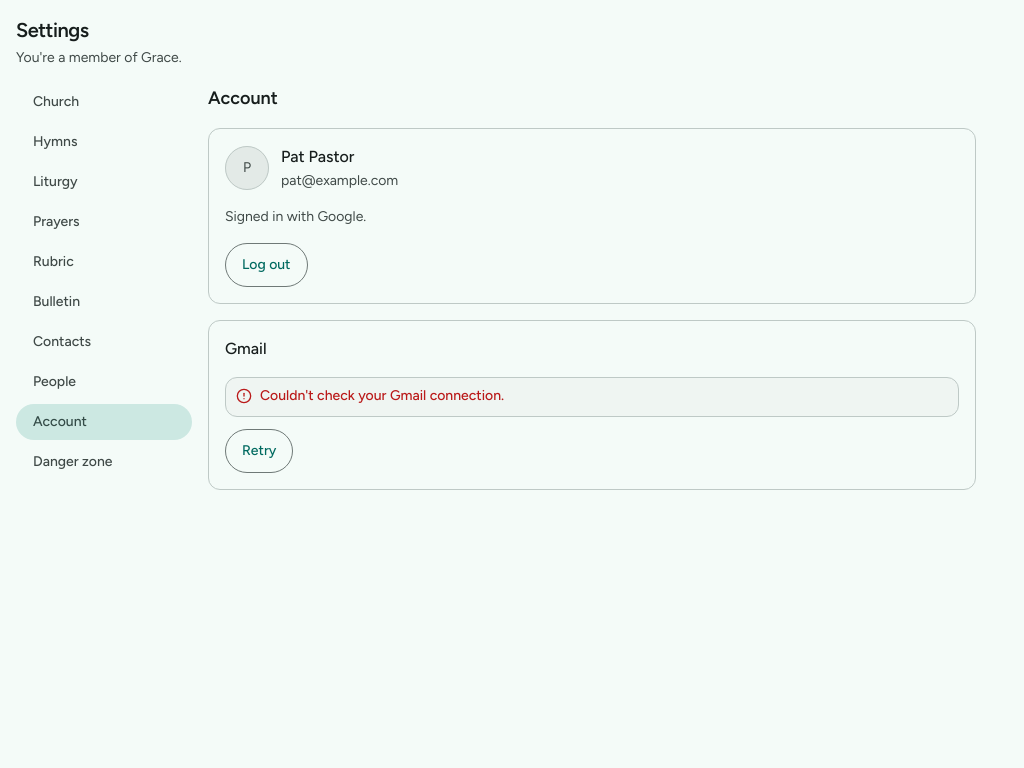
Test: Settings → Account (slice 5b-2) › shows a failed check with Retry, and a failed disconnect is toasted
Expected: the text "Couldn't check your Gmail connection." is shown, [260,387,504,404]
Click the button "Retry" at (259, 451), box [225,429,293,473]
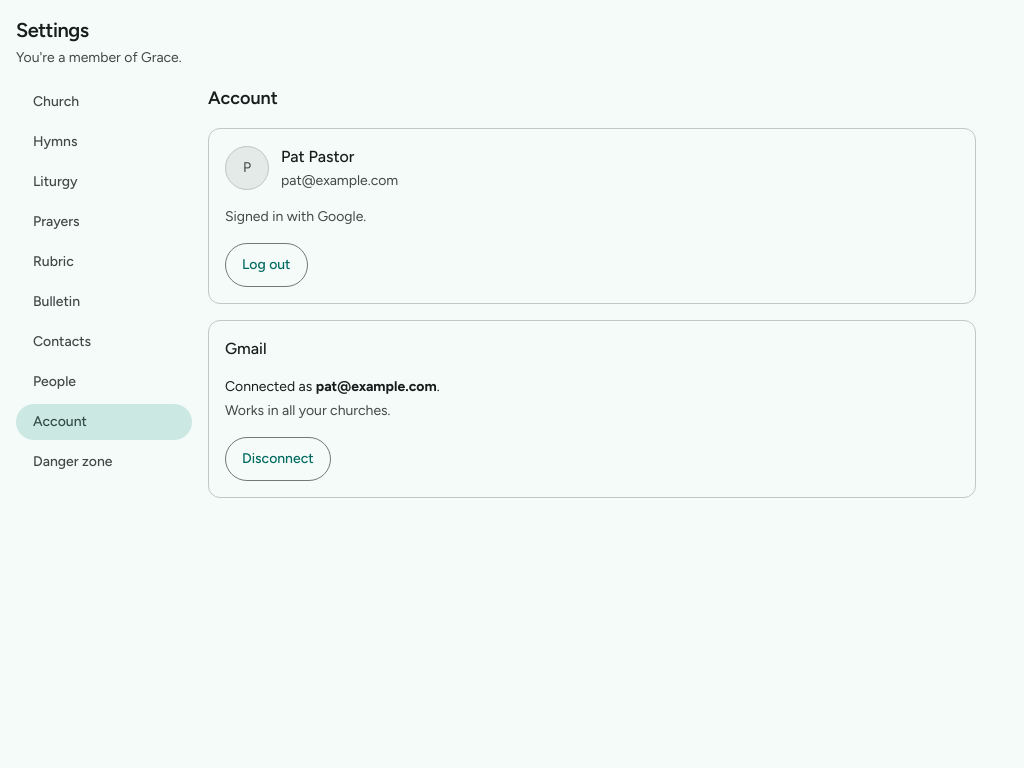
Click the button "Disconnect" at (278, 459), box [225,437,331,481]
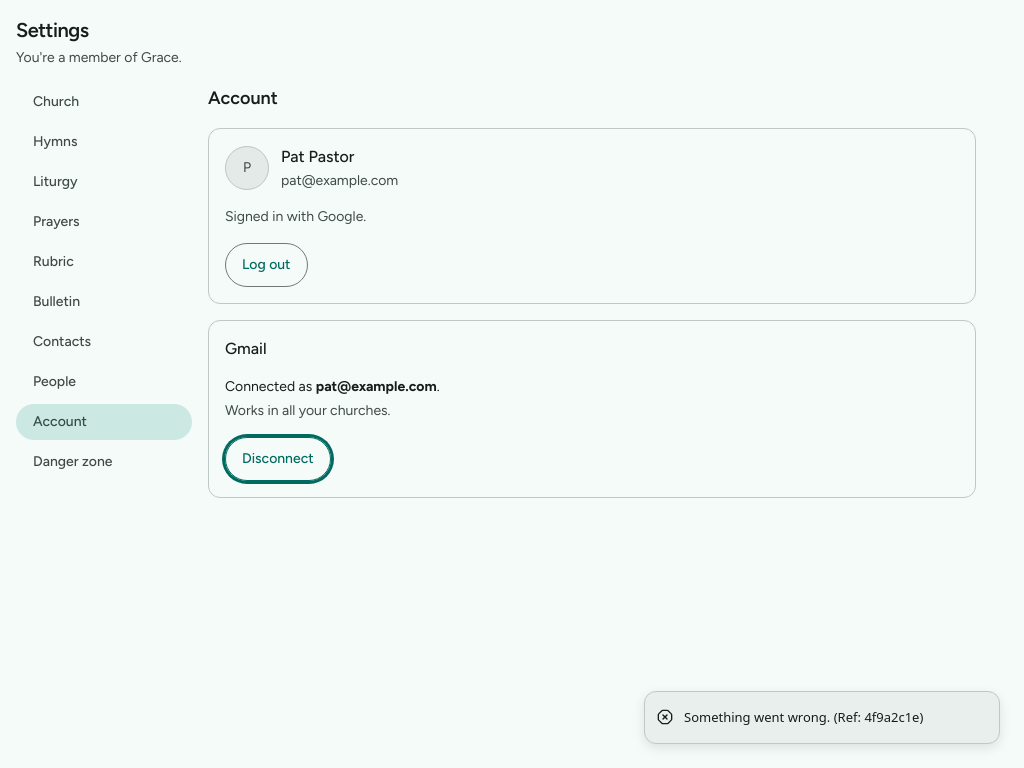
Now the text "Something went wrong. (Ref: 4f9a2c1e)" is shown, box [684,708,923,727]
